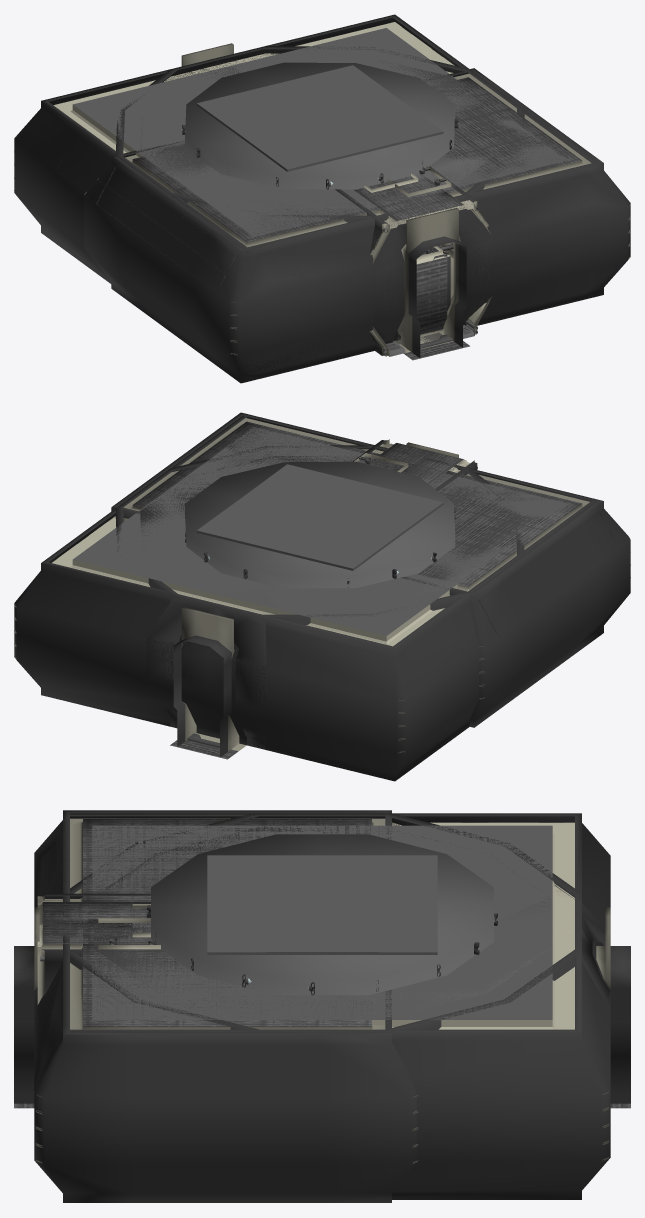
File: HallwayPACK_EXTRAS_OBJ.obj
3 renders of one model, top to bottom at view 1: azimuth 30°, elevation 25°; view 2: azimuth 150°, elevation 25°; view 3: azimuth 270°, elevation 25°, orthographic. The views are drawn at different scales.
Parts seen in each view (by area): view 1: Room_Big_Square, Room_Medium_L, Room_Medium_R, Room_Big_Round_TwoDoor, Hall_Ladder_UP, Hall_Ladder_Up_End, Hall_Ladder_Middle, MiddleLadder.002, Room_Big_Round, Hall_Ladder_Down; view 2: Room_Big_Square, Room_Big_Round_TwoDoor, Room_Medium_L, Room_Medium_R, Room_Big_Round, Hall_Ladder_UP, Hall_Ladder_Up_End, Hall_Ladder_Down; view 3: Room_Big_Square, Room_Medium_R, Room_Big_Round_TwoDoor, Room_Medium_L, Hall_Ladder_UP, Hall_Ladder_Up_End, Room_Big_Round, MiddleLadder.002, Hall_Ladder_Down.
Part boxes in pixels (x1=…): Room_Big_Square: x1=14, y1=14, x2=623, y2=382; Room_Medium_L: x1=84, y1=141, x2=491, y2=383; Room_Medium_R: x1=344, y1=68, x2=630, y2=349; Room_Big_Round_TwoDoor: x1=115, y1=43, x2=524, y2=357; Hall_Ladder_UP: x1=338, y1=165, x2=491, y2=356; Hall_Ladder_Up_End: x1=339, y1=166, x2=489, y2=356; Hall_Ladder_Middle: x1=393, y1=246, x2=450, y2=340; MiddleLadder.002: x1=356, y1=176, x2=485, y2=350; Room_Big_Round: x1=120, y1=46, x2=453, y2=168; Hall_Ladder_Down: x1=335, y1=181, x2=489, y2=348; Room_Big_Square: x1=14, y1=415, x2=595, y2=781; Room_Big_Round_TwoDoor: x1=115, y1=442, x2=524, y2=759; Room_Medium_L: x1=368, y1=446, x2=630, y2=727; Room_Medium_R: x1=111, y1=412, x2=463, y2=518; Room_Big_Round: x1=115, y1=469, x2=487, y2=749; Hall_Ladder_UP: x1=354, y1=439, x2=477, y2=488; Hall_Ladder_Up_End: x1=353, y1=440, x2=474, y2=483; Hall_Ladder_Down: x1=370, y1=445, x2=476, y2=491; Room_Big_Square: x1=14, y1=813, x2=610, y2=1199; Room_Medium_R: x1=14, y1=898, x2=418, y2=1202; Room_Big_Round_TwoDoor: x1=14, y1=813, x2=630, y2=1108; Room_Medium_L: x1=14, y1=810, x2=391, y2=1055; Hall_Ladder_UP: x1=37, y1=896, x2=163, y2=997; Hall_Ladder_Up_End: x1=37, y1=895, x2=162, y2=1004; Room_Big_Round: x1=251, y1=813, x2=603, y2=1032; MiddleLadder.002: x1=37, y1=902, x2=149, y2=1004; Hall_Ladder_Down: x1=38, y1=893, x2=150, y2=945.
Bounding box in the file's own units: 24.87 × 8.88 × 26.
